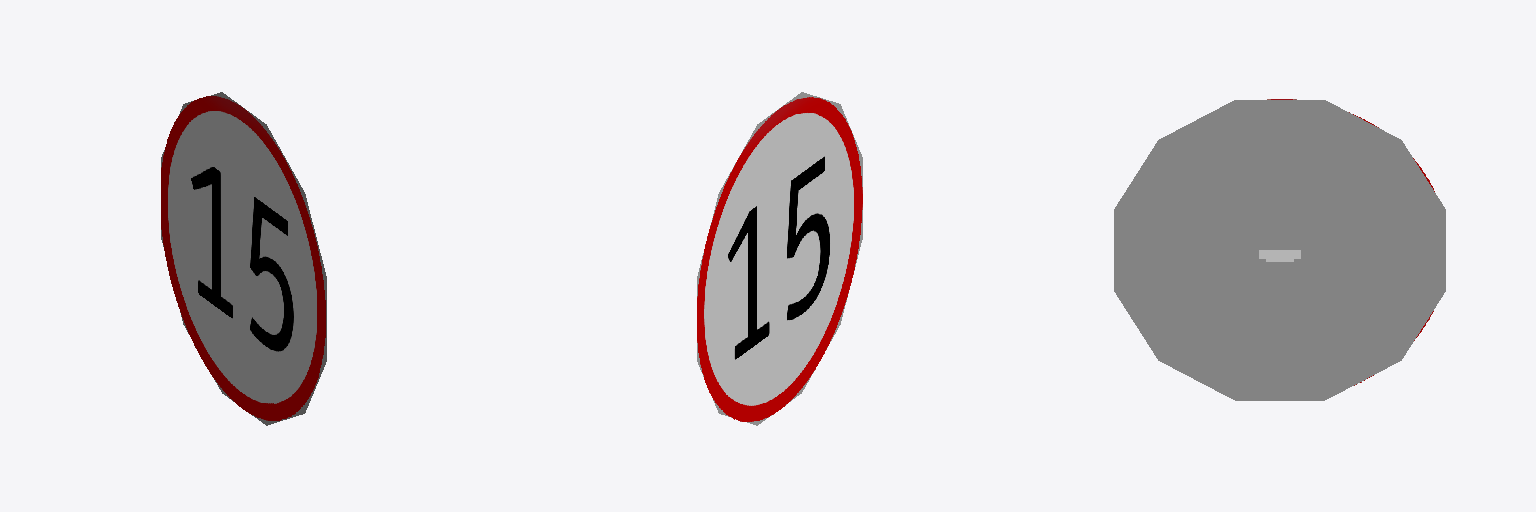
3 renders of one model, left to right at view 1: azimuth 30°, elevation 25°; view 2: azimuth 150°, elevation 25°; view 3: azimuth 270°, elevation 25°, orthographic.
Visible parts, largest first — view 1: cube, circle; view 2: cube, circle; view 3: circle, cube.
Part boxes in pixels (x1,y1,x2,y2): cube: (161, 96, 325, 420); circle: (161, 92, 326, 425); cube: (697, 97, 862, 421); circle: (697, 92, 862, 425); circle: (1114, 100, 1445, 400); cube: (1259, 99, 1434, 385).
Bounding box in the file's own units: 0.0641 × 0.75 × 0.75.
Materials: 2 (1 with a texture image).